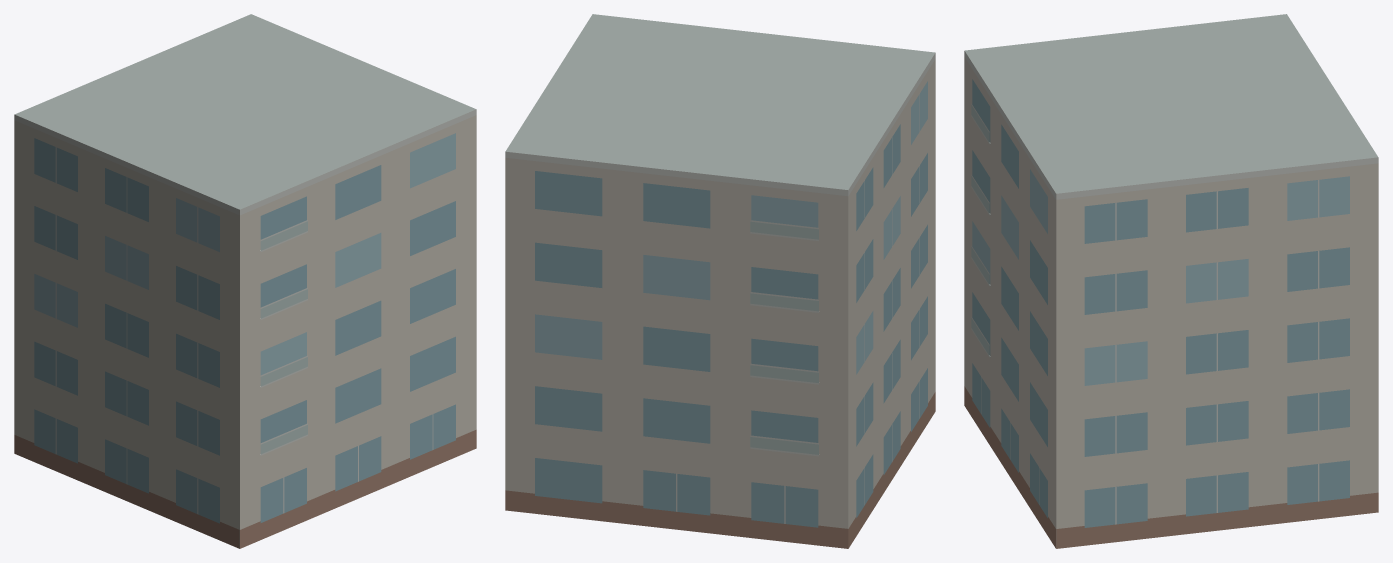
Rendered from survey-upis-32687774.glb.
3 renders of one model, left to right at view 1: azimuth 30°, elevation 25°; view 2: azimuth 150°, elevation 25°; view 3: azimuth 270°, elevation 25°, orthographic. The views are drawn at different scales.
Visible parts, largest first — view 1: survey-upis-32687774.tmp; view 2: survey-upis-32687774.tmp; view 3: survey-upis-32687774.tmp.
Boxes of the visible parts, bbox=[...] form: survey-upis-32687774.tmp: bbox=[14, 14, 476, 548]; survey-upis-32687774.tmp: bbox=[505, 14, 935, 548]; survey-upis-32687774.tmp: bbox=[964, 14, 1378, 548].
Bounding box in the file's own units: 15.65 × 14.4 × 15.23.
